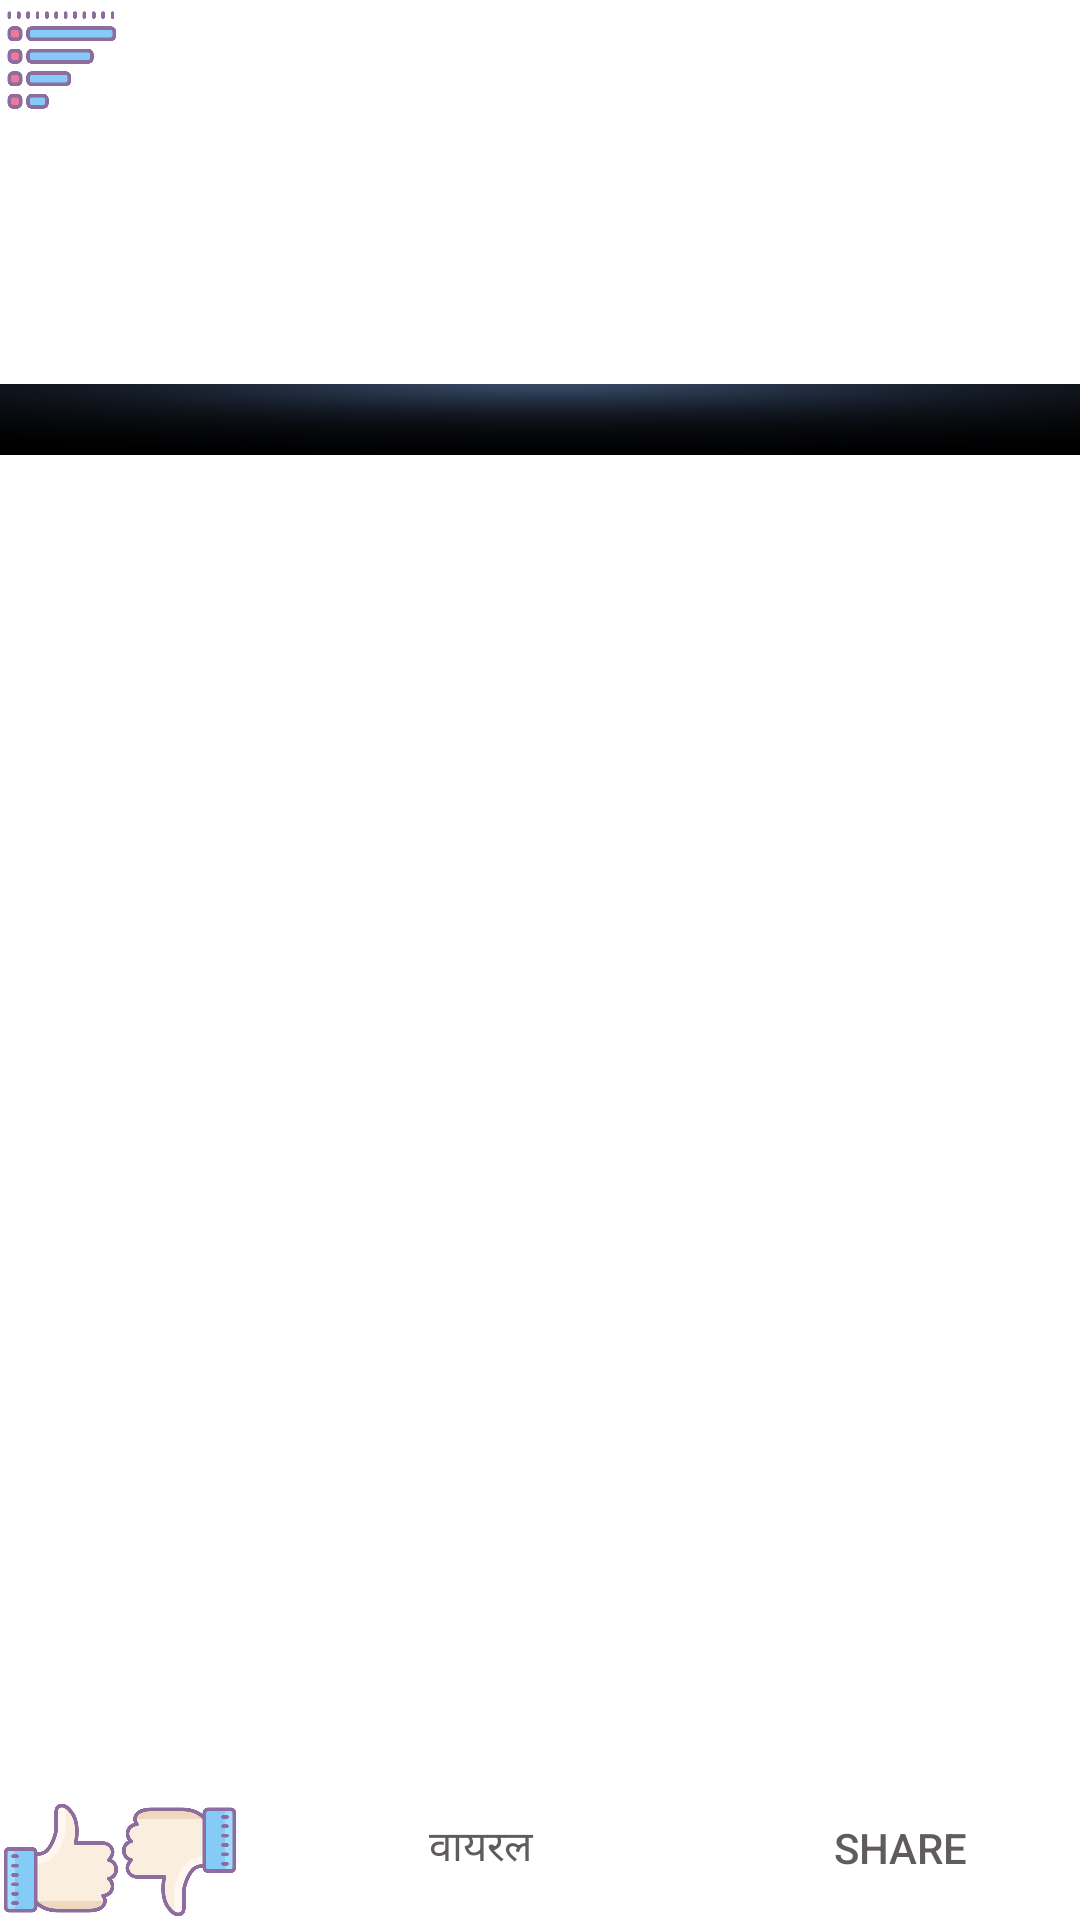

Icons on this 1080w x 1920h Android screen, each with its box as (x1, y1, x2, y2):
dislike: (122, 1807, 236, 1916)
like: (4, 1804, 118, 1913)
